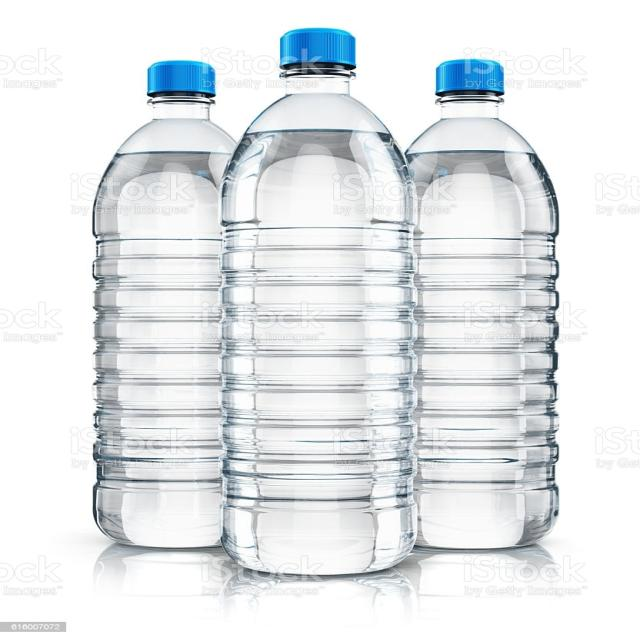plastic_bottle: (218, 26, 418, 576)
